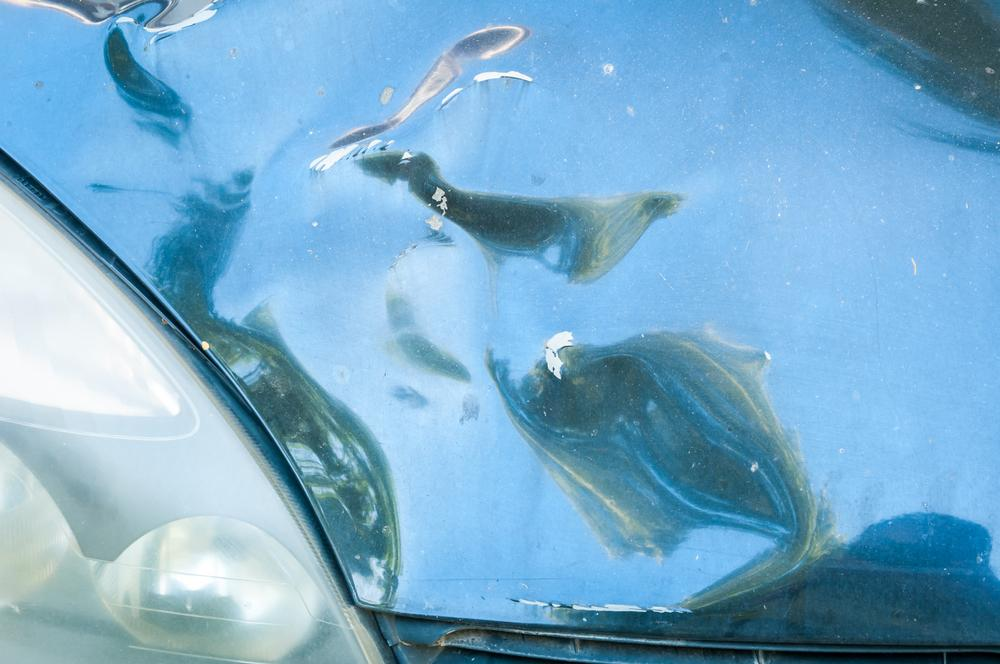dent: (56, 0, 808, 607)
